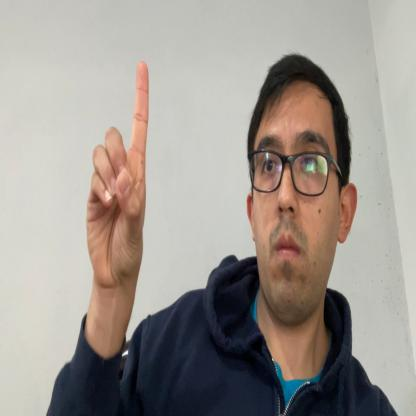D: (86, 61, 149, 289)
